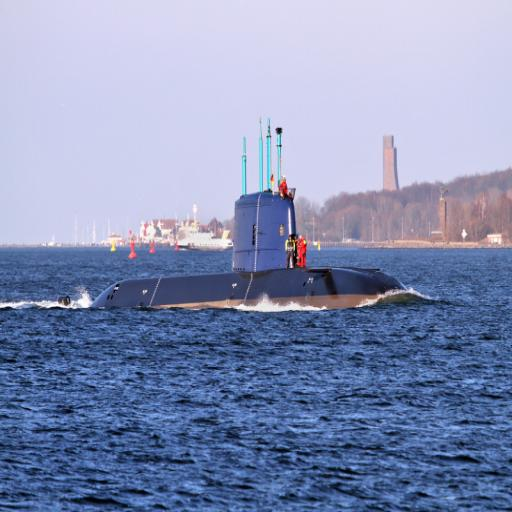submarine: (59, 113, 404, 311)
